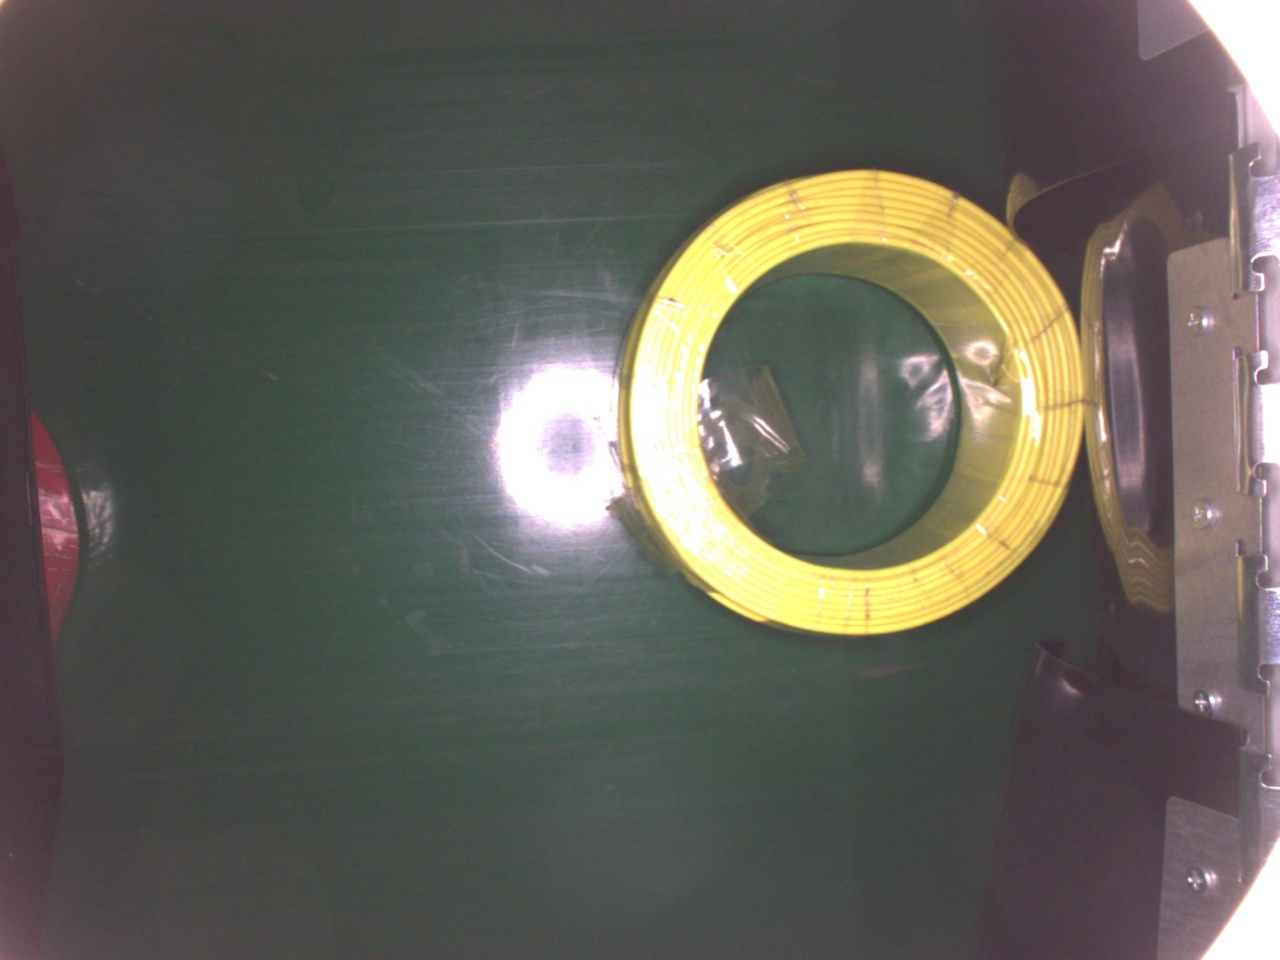yellow: (611, 165, 1085, 638)
